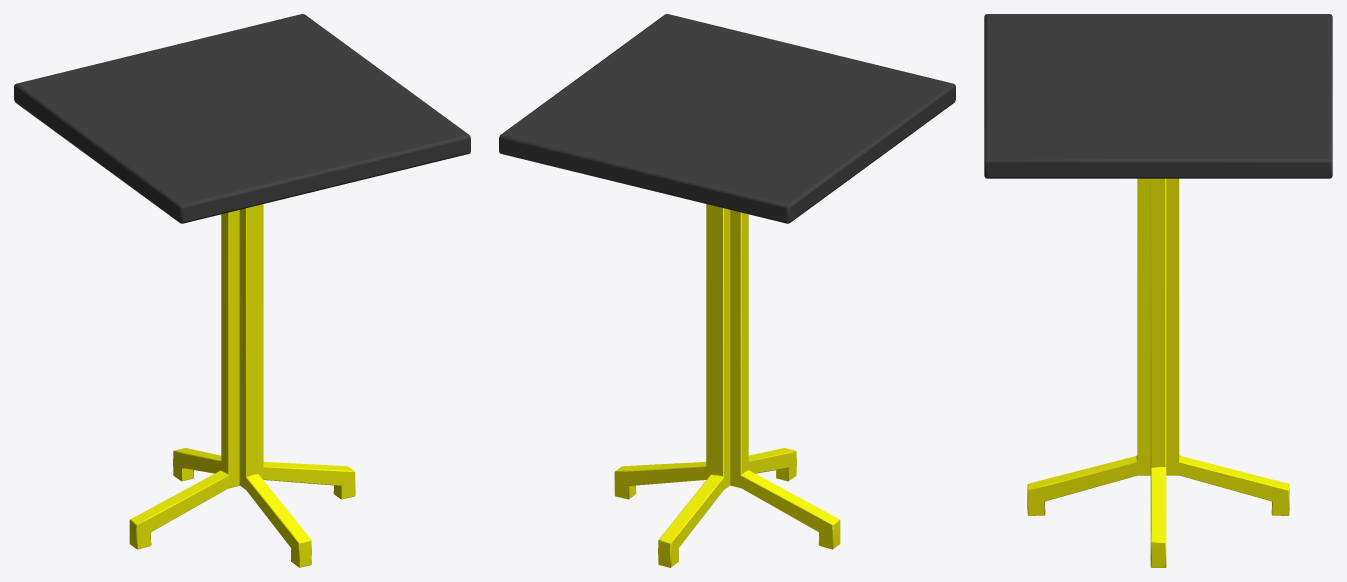
Rendered from Erik__Hog-Gult-Bord 1.fbx.
3 views of the same model, side by side, from view 1: azimuth 30°, elevation 25°; view 2: azimuth 150°, elevation 25°; view 3: azimuth 270°, elevation 25° (orthographic). The views are drawn at different scales.
Visible parts, largest first — view 1: Plane, Cube.001; view 2: Plane, Cube.001; view 3: Plane, Cube.001.
Boxes of the visible parts, left/top/right/bottom form: Plane: left=14, top=14, right=470, bottom=223; Cube.001: left=129, top=204, right=355, bottom=567; Plane: left=499, top=14, right=955, bottom=223; Cube.001: left=614, top=204, right=840, bottom=567; Plane: left=984, top=14, right=1332, bottom=178; Cube.001: left=1027, top=178, right=1289, bottom=567.
Size of the model in its own units: 448 by 605 by 448.
